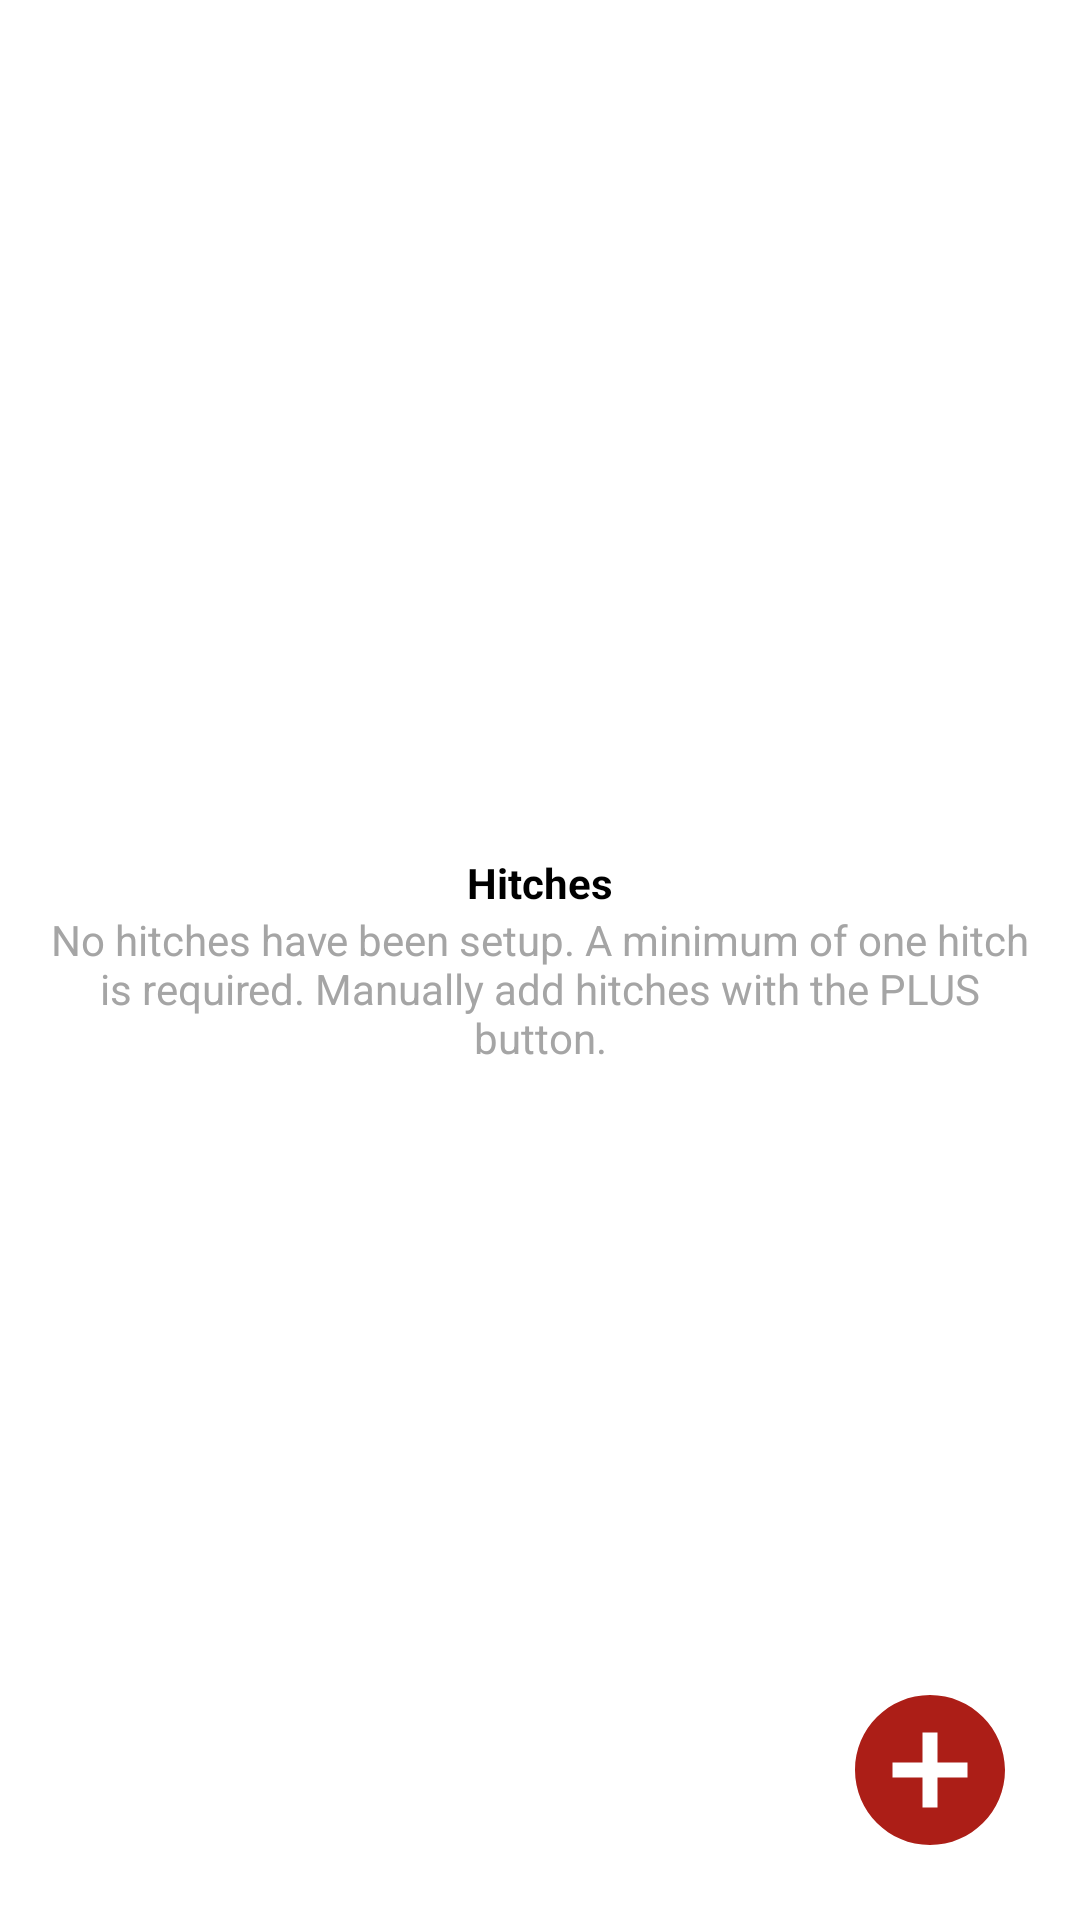

Screen size 1080px x 1920px. Icon name, then its center in pixels as point (x, y):
add circle: point (930, 1770)
